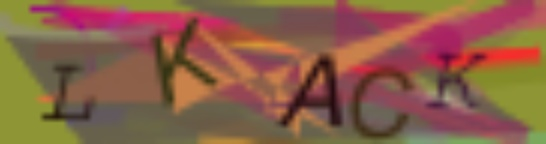A: (276, 50, 343, 130)
C: (349, 64, 416, 141)
K: (147, 14, 219, 108), (426, 50, 491, 113)
L: (38, 61, 100, 125)
